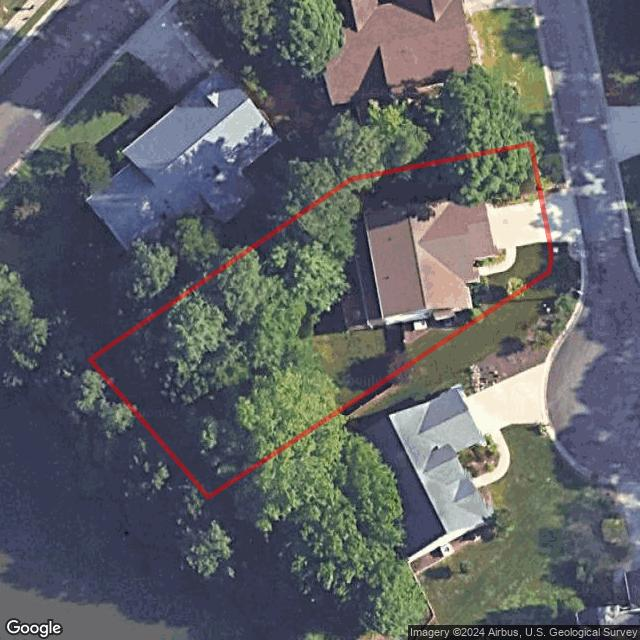Driveway: (486, 200, 549, 249)
Extra-Driveway: (544, 187, 580, 261)
Extra-Lawn: (531, 139, 566, 200), (548, 242, 576, 270)
House: (363, 198, 497, 323)
Lawn: (91, 144, 550, 497)
Other: (340, 217, 383, 331), (454, 275, 493, 330), (392, 314, 457, 346), (506, 277, 524, 300)
Sidewalk: (476, 245, 517, 278)
